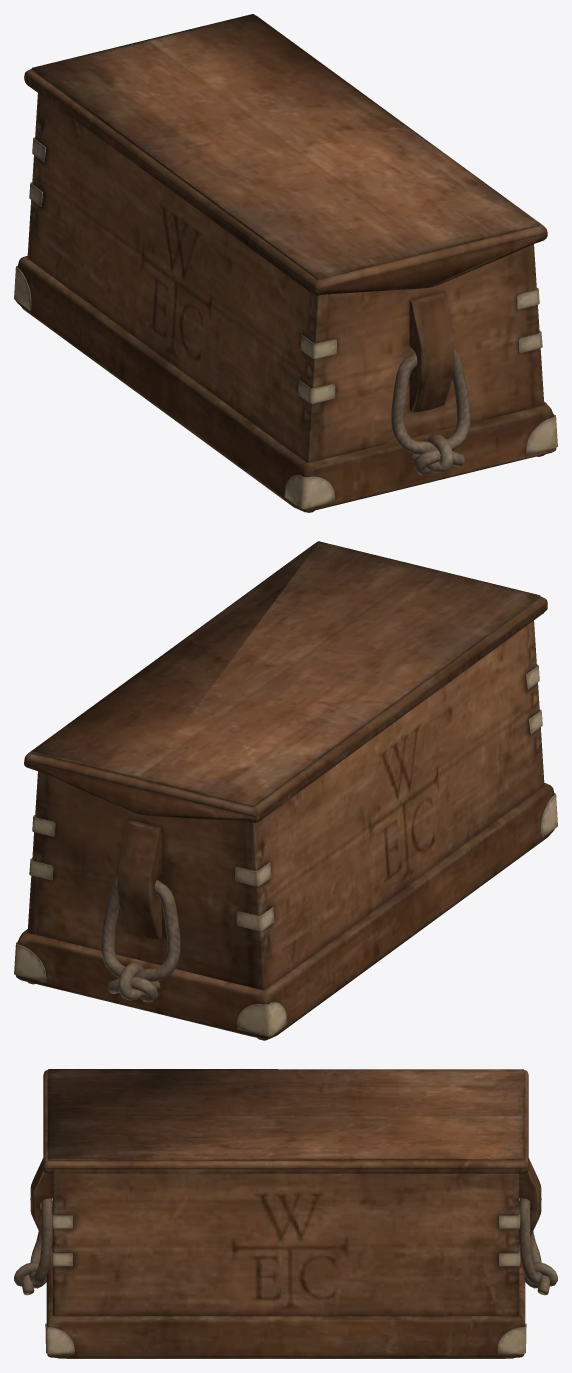
Rendered from wooden_crate_02.glb.
3 renders of one model, top to bottom at view 1: azimuth 30°, elevation 25°; view 2: azimuth 150°, elevation 25°; view 3: azimuth 270°, elevation 25°, orthographic. The views are drawn at different scales.
Parts seen in each view (by area): view 1: wooden_crate_02_crate; view 2: wooden_crate_02_crate; view 3: wooden_crate_02_crate.
Part boxes in pixels (x1,y1,x2,y2): wooden_crate_02_crate: (14, 14, 557, 512); wooden_crate_02_crate: (14, 541, 557, 1040); wooden_crate_02_crate: (14, 1069, 557, 1358).
Bounding box in the file's own units: 0.5292 × 0.464 × 1.17.
1 material, 1 textured.
